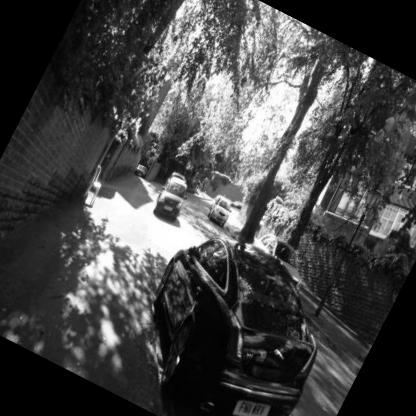car: (105, 205, 375, 416), (145, 166, 202, 227), (199, 188, 246, 233)
